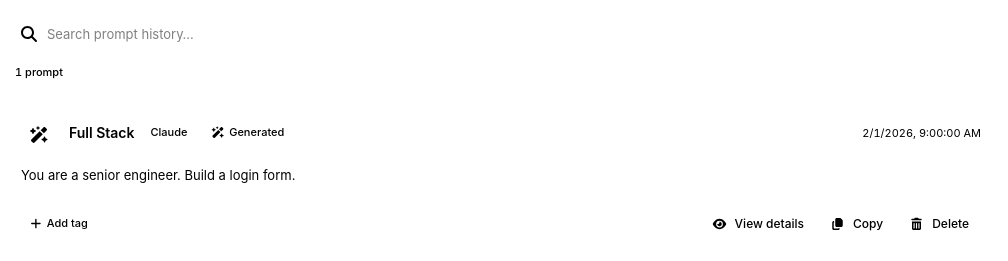
Test: PromptHistoryPage search box › clears the search with Escape and lists everything again
Check: the text "You are a senior engineer. Build a login form." is shown, box x1=21 y1=166 x2=295 y2=182
Type "nope" into the field with placeholder "Search prompt history…".
click(519, 34); type("nope")  # box x1=47 y1=16 x2=991 y2=52
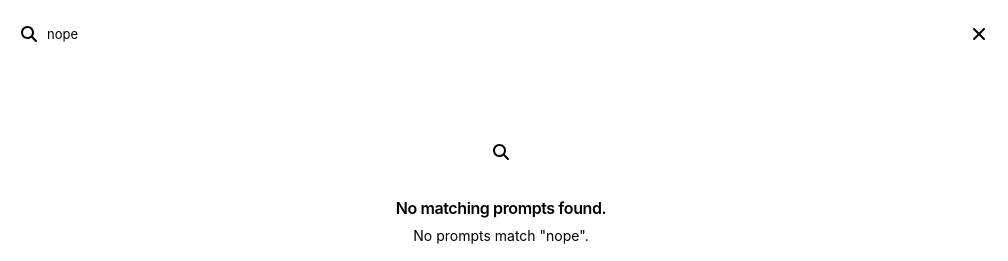
Check: the text "No matching prompts found." is shown, box x1=396 y1=196 x2=606 y2=220
Press Escape
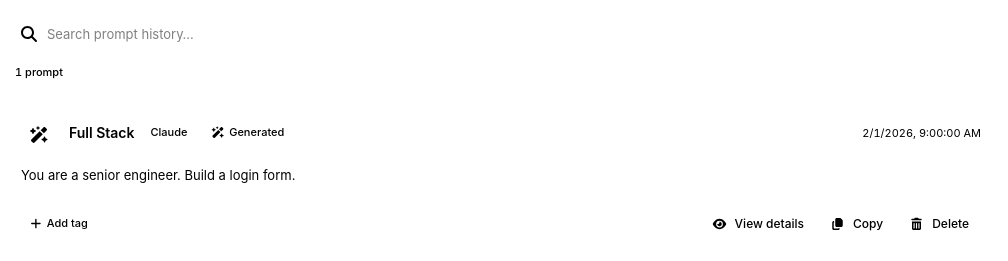
Check: the field with placeholder "Search prompt history…" is empty, box x1=47 y1=16 x2=991 y2=52
Check: the text "You are a senior engineer. Build a login form." is shown, box x1=21 y1=166 x2=295 y2=182
